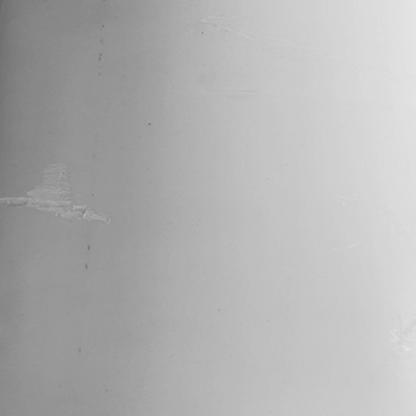sunshang: (1, 159, 112, 227)
